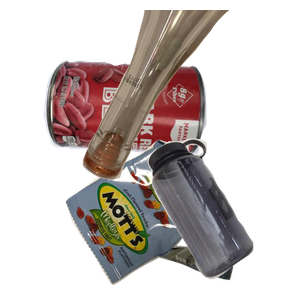glass: (80, 10, 300, 182)
metal: (41, 58, 240, 207)
plastic: (145, 136, 300, 300)
trash: (63, 137, 289, 300)
